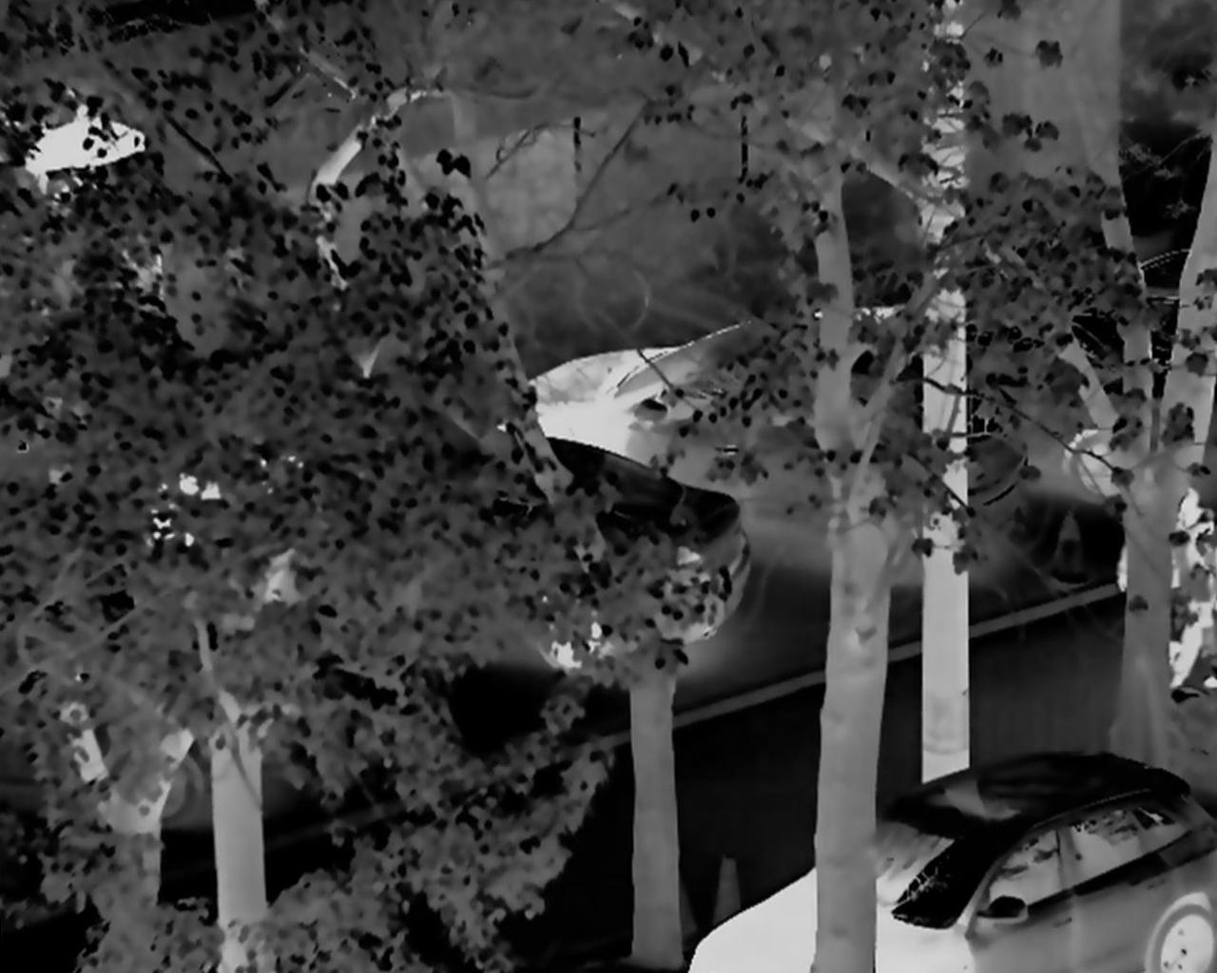person: (1141, 475, 1217, 689)
